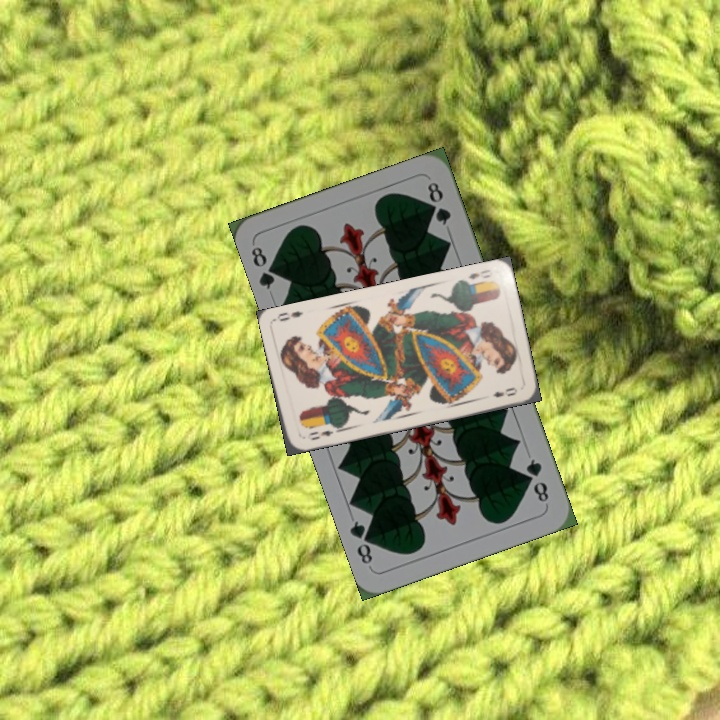EO: (303, 426, 336, 443), (465, 265, 493, 282)
G8: (247, 242, 283, 292), (522, 454, 552, 505)
